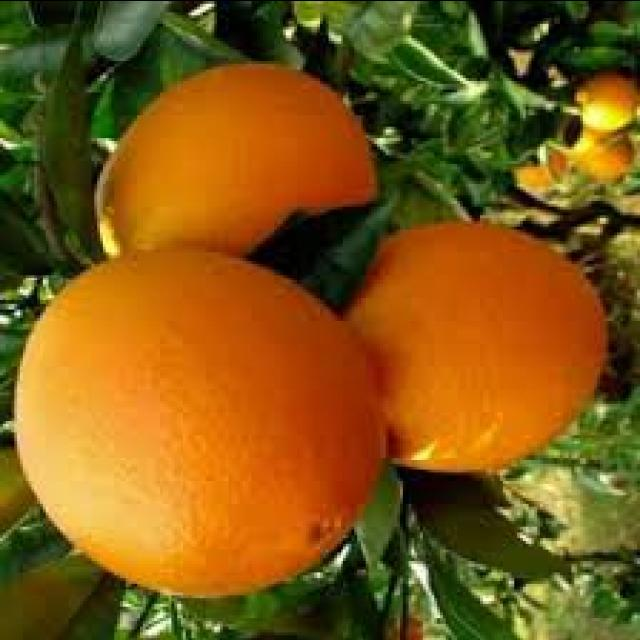orange: (6, 237, 372, 605)
